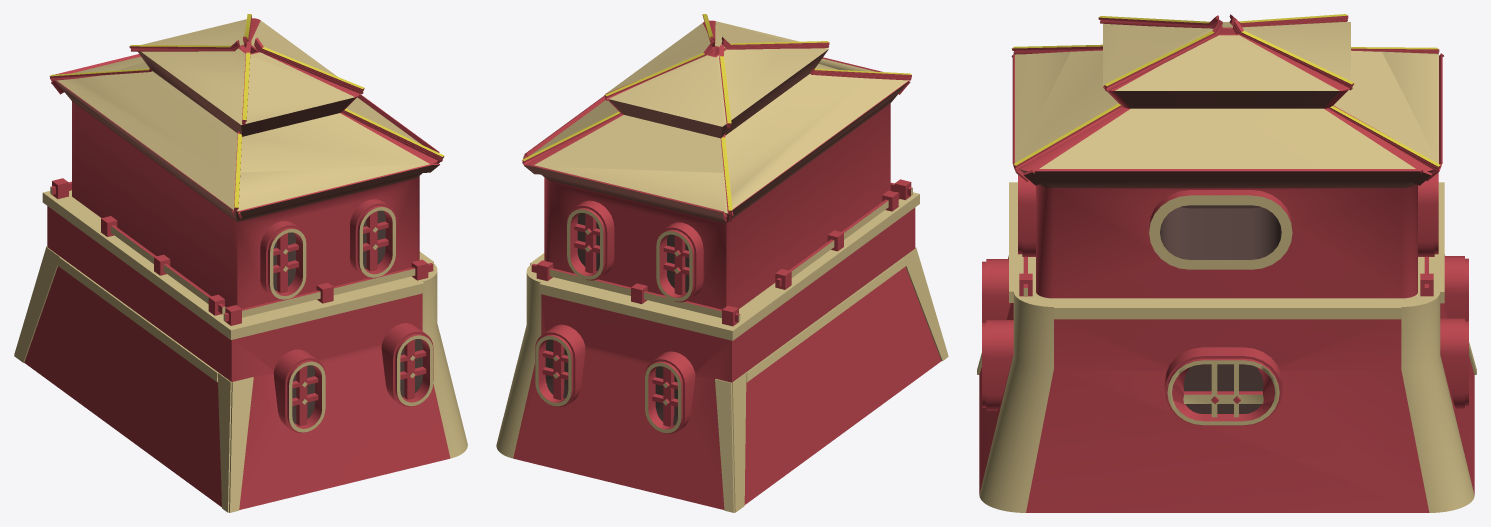
Rendered from Ship1_Tower.fbx.
3 renders of one model, left to right at view 1: azimuth 30°, elevation 25°; view 2: azimuth 150°, elevation 25°; view 3: azimuth 270°, elevation 25°, orthographic. The views are drawn at different scales.
Parts seen in each view (by area): view 1: Model; view 2: Model; view 3: Model.
Part boxes in pixels (box(x1,y1,x2,y2)): Model: box(14, 14, 467, 512); Model: box(496, 14, 948, 512); Model: box(977, 14, 1476, 512).
Bounding box in the file's own units: 791 × 1083 × 1158.
